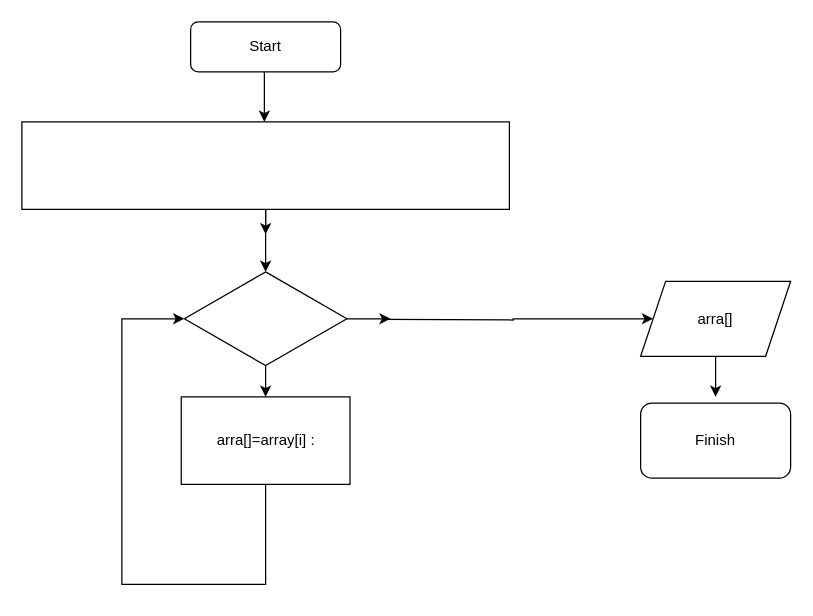
The diagram is 813 pixels wide and 616 high, and some of its shapes have lost their labels. Here are the shapes that lost their labels. From the top down, the centre of each, then its label:
(x=265, y=165): Array= ["branch", "checkout","commit","yes"] size = 4 index = 0 count=0 arra[]=0
(x=265, y=318): array.Lengh[i]<=3
